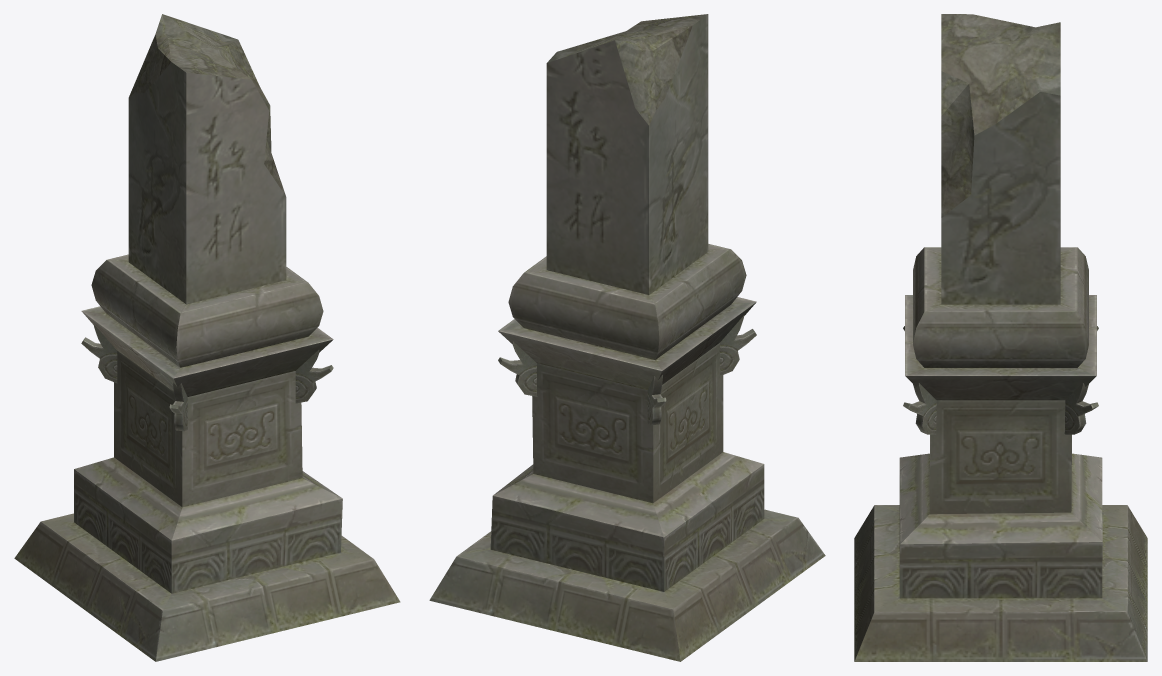
Rendered from wlf_wujian12_jgc.FBX.
3 views of the same model, side by side, from view 1: azimuth 30°, elevation 25°; view 2: azimuth 150°, elevation 25°; view 3: azimuth 270°, elevation 25° (orthographic). The views are drawn at different scales.
Visible parts, largest first — view 1: wlf_wujian12_jgc; view 2: wlf_wujian12_jgc; view 3: wlf_wujian12_jgc.
Boxes of the visible parts, <box> form: wlf_wujian12_jgc: <box>14,14,400,661</box>; wlf_wujian12_jgc: <box>429,14,825,661</box>; wlf_wujian12_jgc: <box>854,14,1147,661</box>.
Bounding box in the file's own units: 10 × 21.44 × 10.
